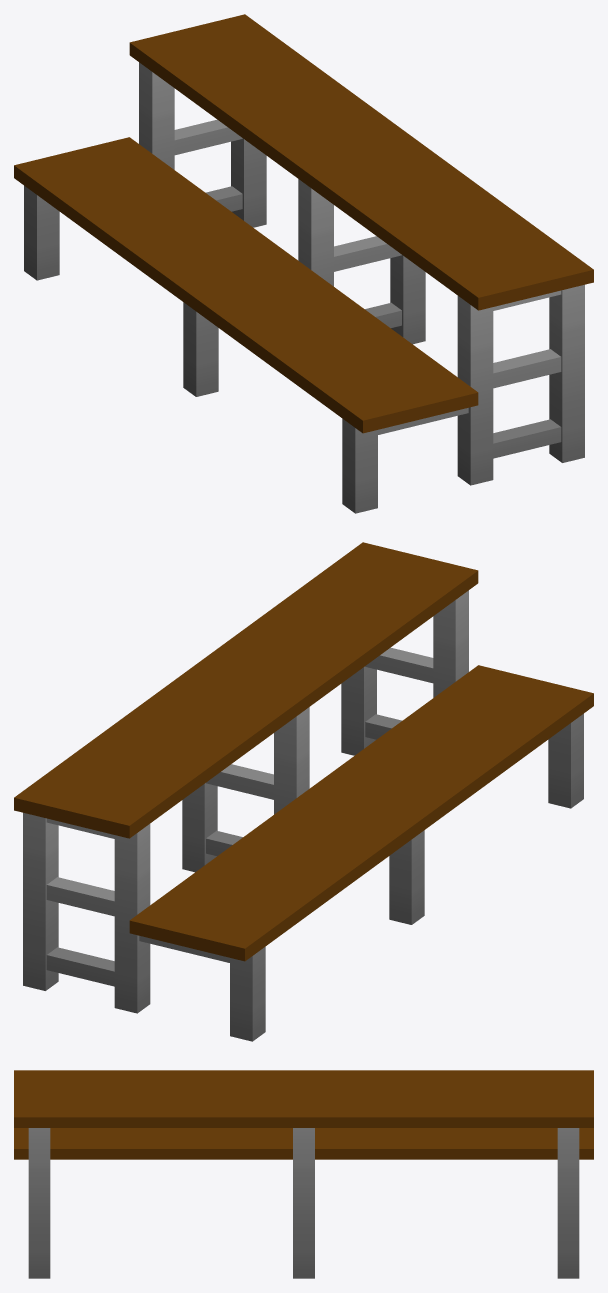
The model's file is Bench_1_D_5.fbx.
The picture shows the model from 3 angles, top to bottom: view 1: azimuth 30°, elevation 25°; view 2: azimuth 150°, elevation 25°; view 3: azimuth 270°, elevation 25°; orthographic projection. The views are drawn at different scales.
Parts seen in each view (by area): view 1: Bench_1_D_5; view 2: Bench_1_D_5; view 3: Bench_1_D_5.
Part boxes in pixels (box(x1,y1,x2,y2)): Bench_1_D_5: box(14, 14, 593, 513); Bench_1_D_5: box(14, 542, 593, 1041); Bench_1_D_5: box(14, 1070, 593, 1278).
Bounding box in the file's own units: 81.37 × 65.4 × 213.
